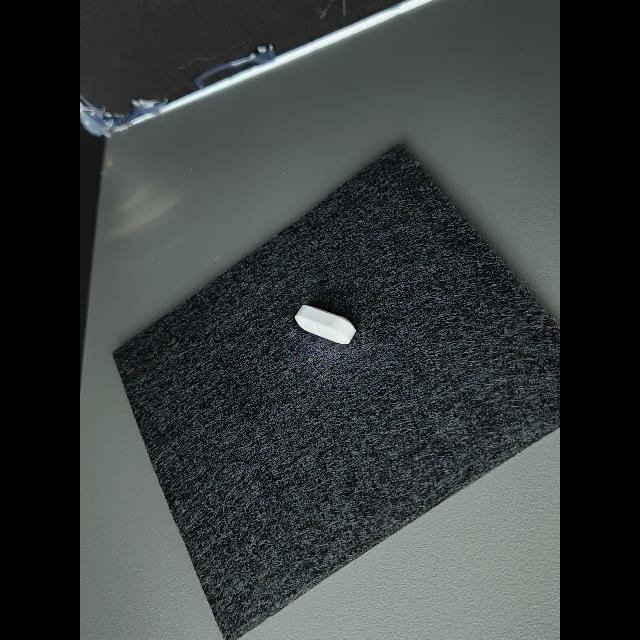Intact Pill: (295, 305, 356, 344)
